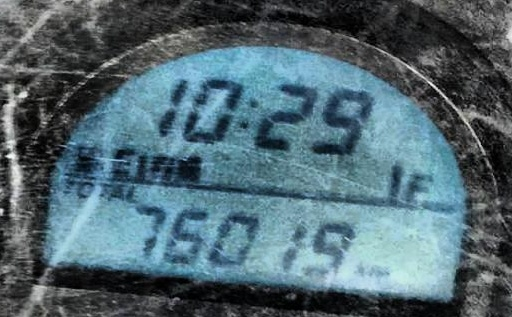0: (188, 74, 240, 144), (212, 209, 262, 268)
1: (275, 213, 308, 278), (155, 70, 187, 137)
2: (256, 76, 315, 157)
6: (163, 202, 207, 266)
7: (130, 203, 168, 257)
9: (313, 81, 365, 156), (303, 216, 354, 287)
X: (403, 169, 433, 201), (108, 144, 135, 174), (241, 92, 257, 135), (94, 178, 107, 205), (109, 180, 124, 203), (125, 181, 140, 204), (75, 179, 94, 197), (58, 177, 75, 194)
